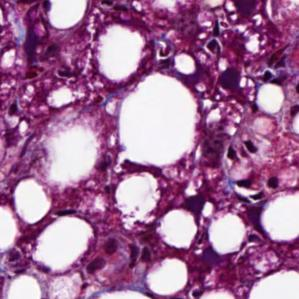inflammation: (208, 51, 252, 109), (15, 10, 56, 72), (95, 238, 149, 281)
